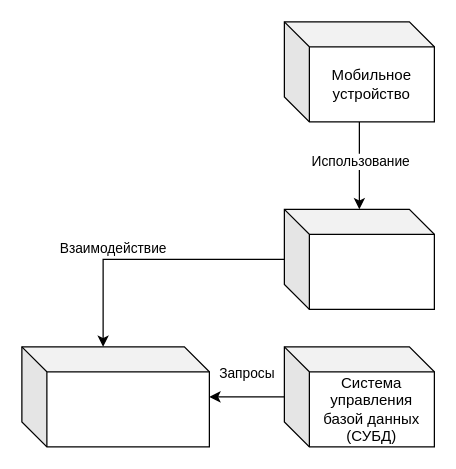
This 456x469 diagram has some shape labels left out. Here are the shapes that lost their labels. From the top down, the centre of each, then its label:
(358,258): Мобильное приложение
(115,396): База данных (SQLite)
